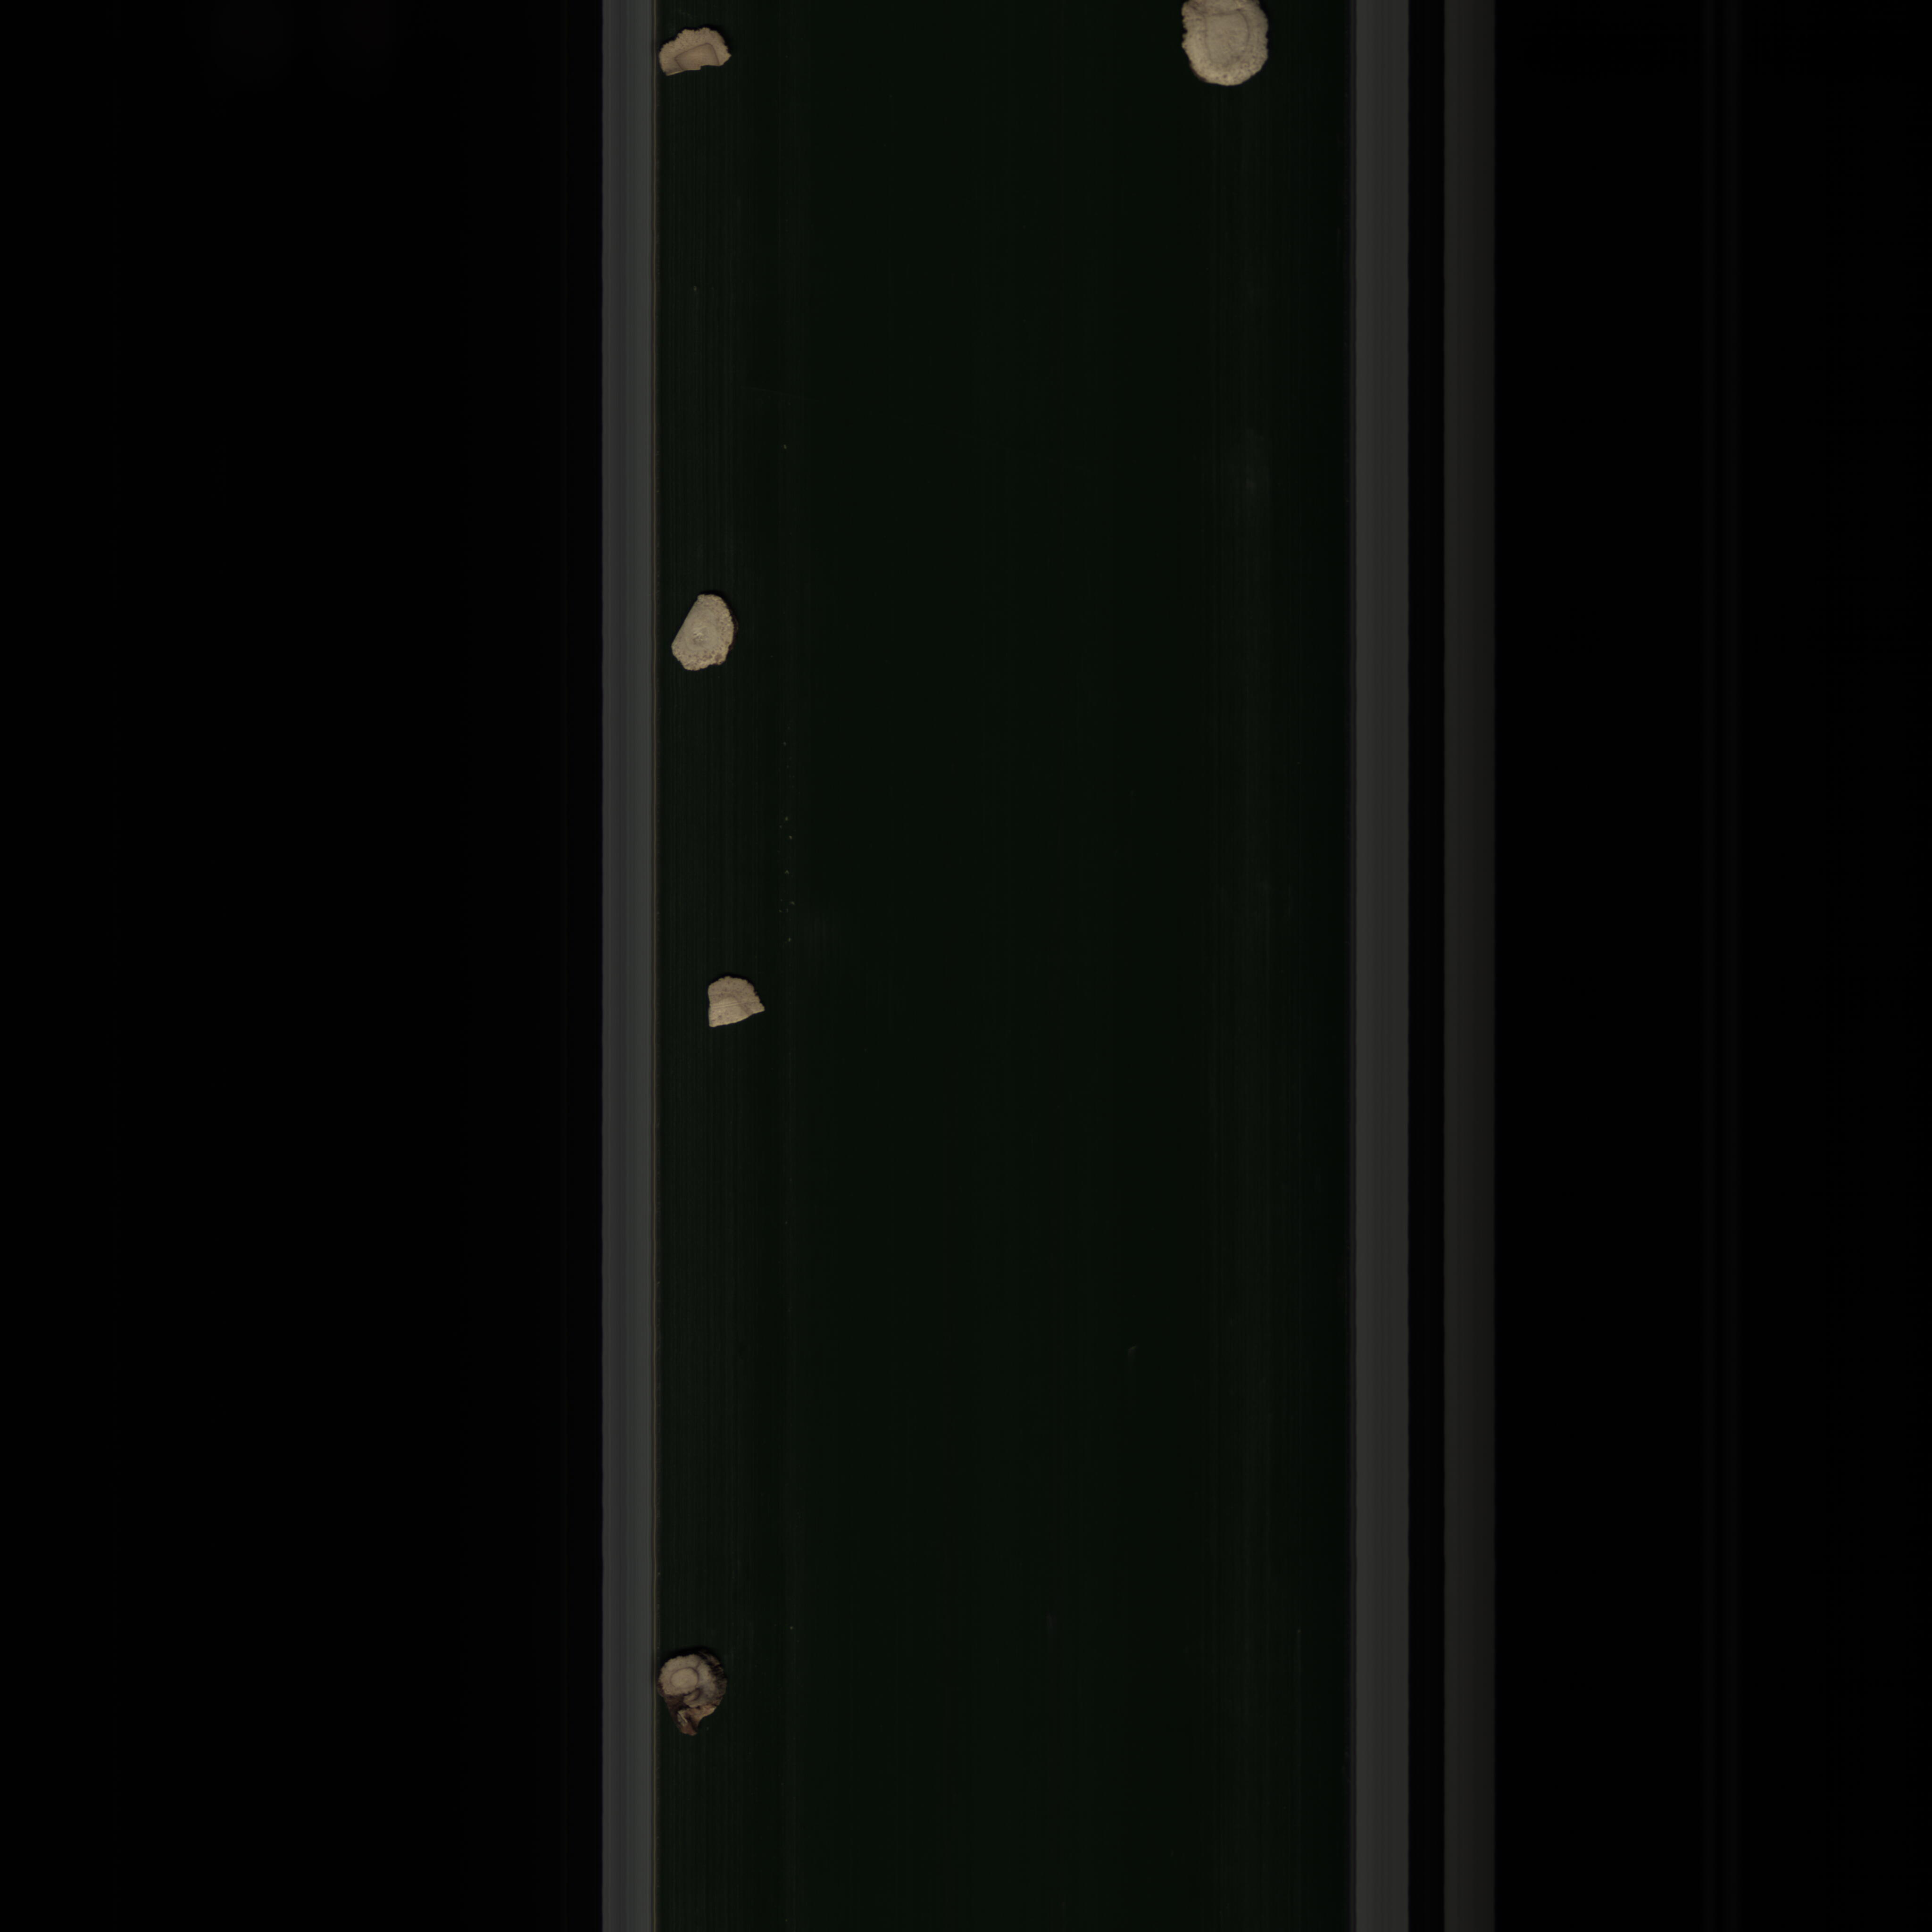debris: (674, 584, 736, 681), (690, 975, 782, 1033), (658, 27, 740, 73)
